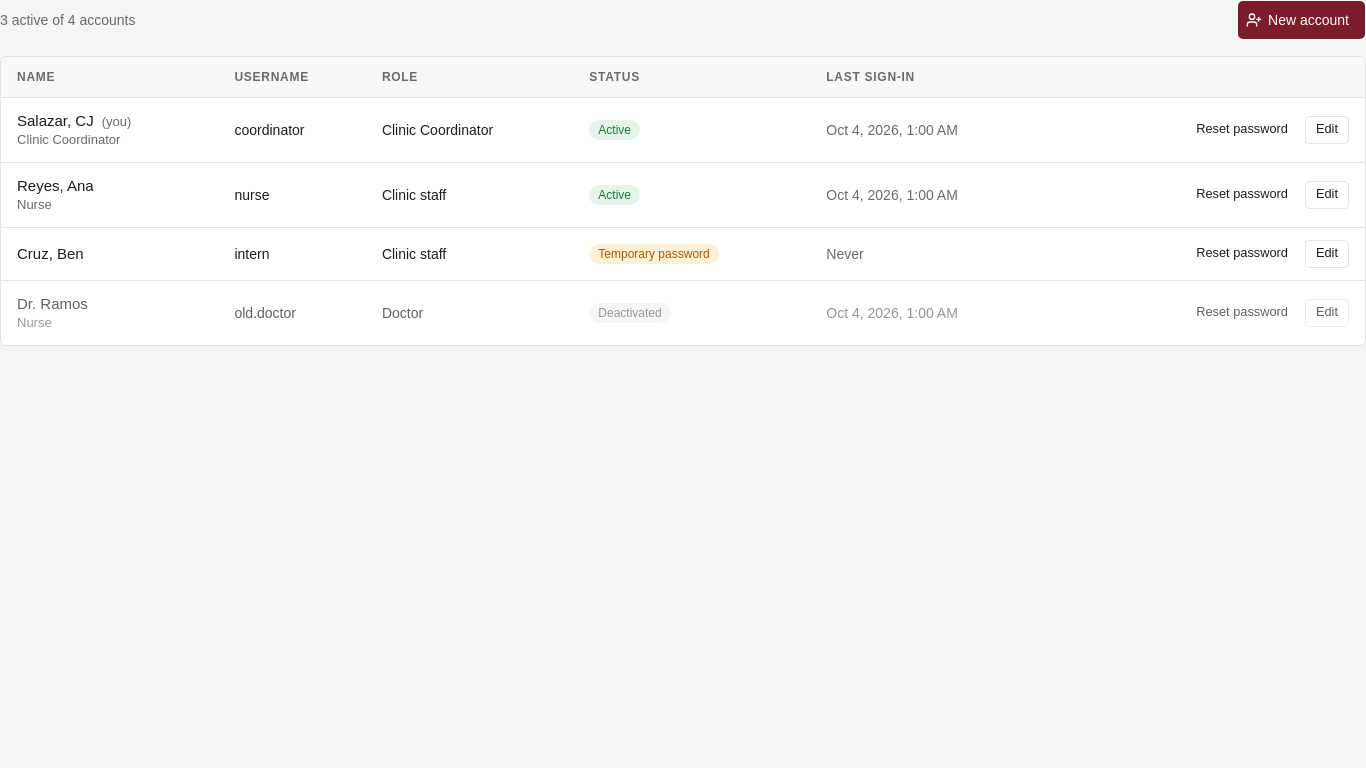
shows the server’s reason when a change is refused
This screenshot has width=1366, height=768.
Click the button with aria-label "Edit Reyes, Ana".
click(1327, 195)  # box [1305,181,1349,209]
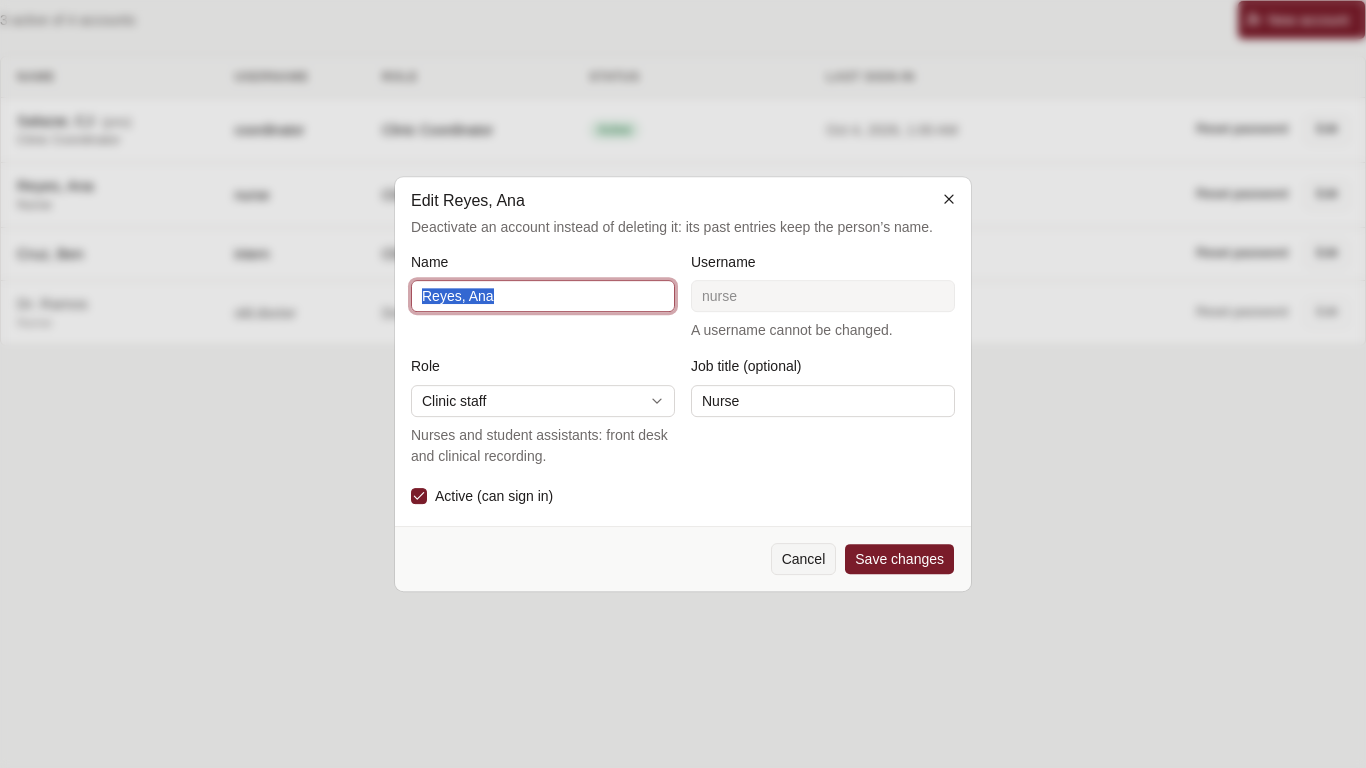
Click the button "Save changes".
click(900, 559)  # box [844,543,955,575]
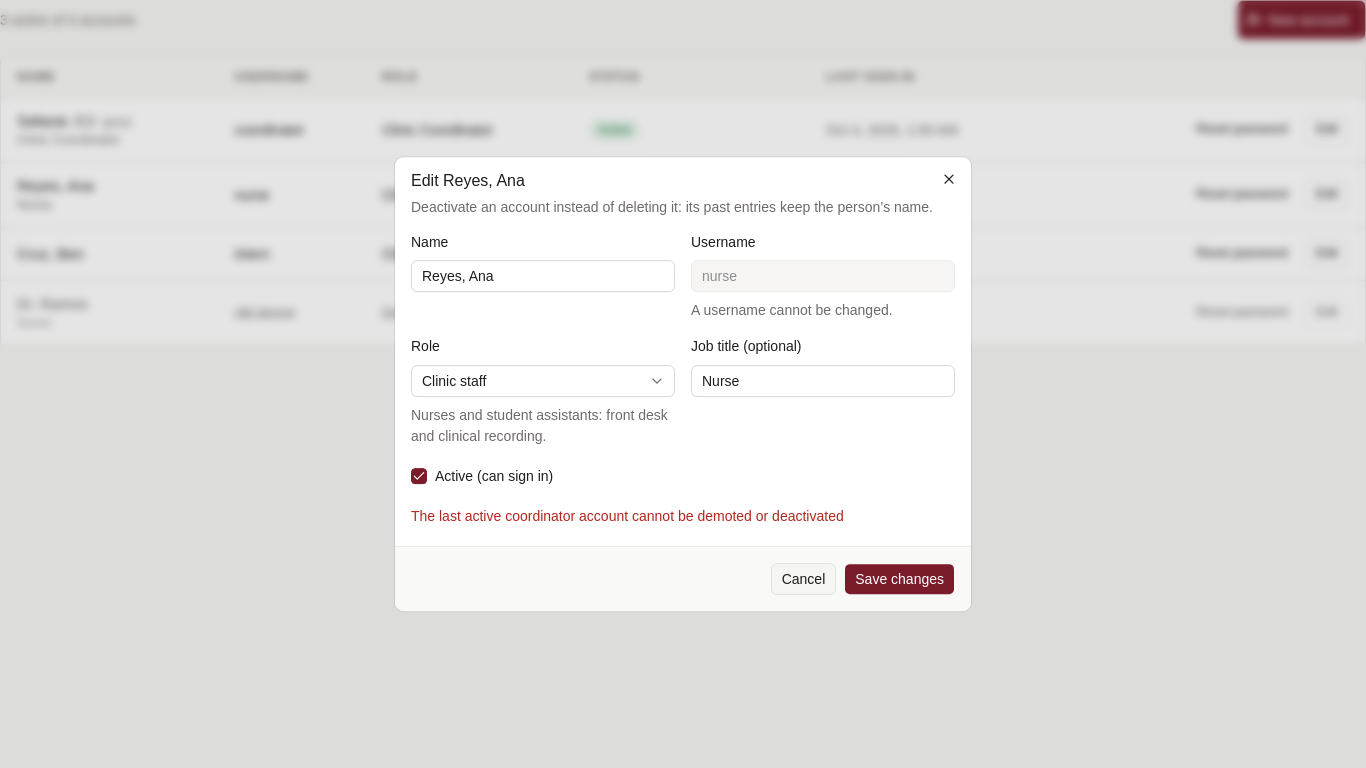
Result: the message shows "last active coordinator" at [411,508,844,524]
